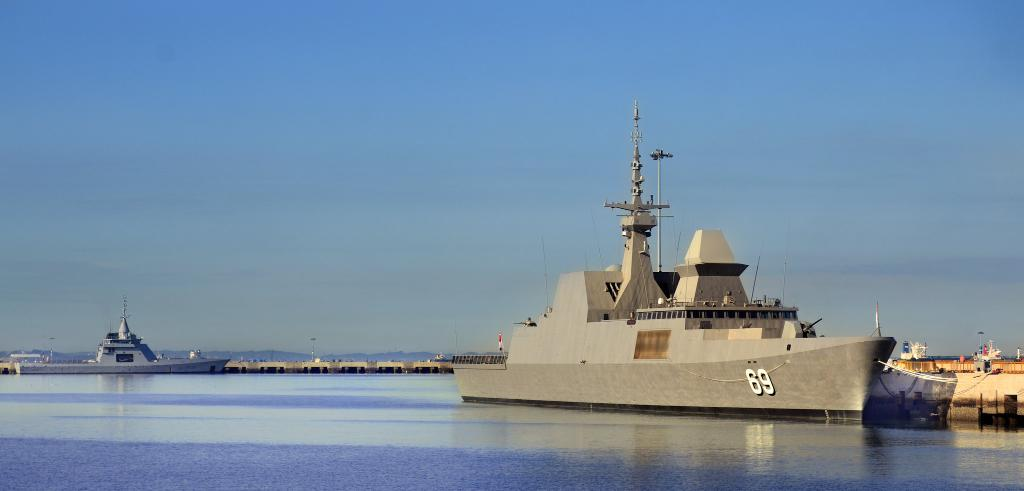Warship: (452, 94, 902, 422), (14, 292, 236, 378)
